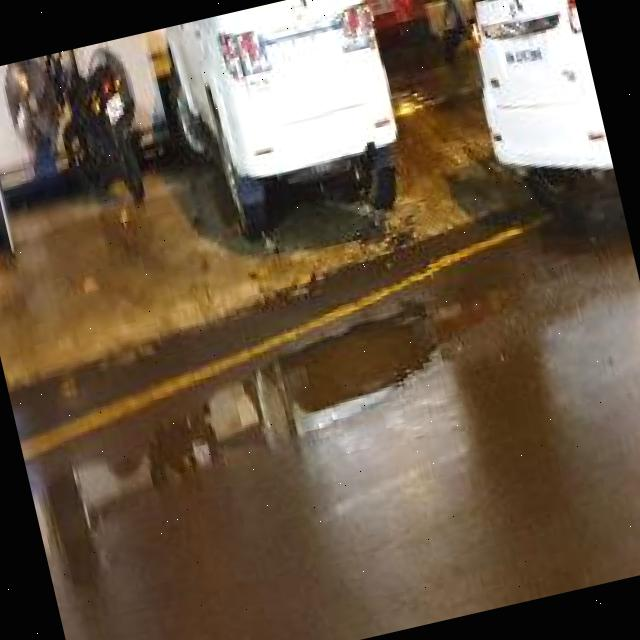stagnation: (6, 283, 488, 606)
